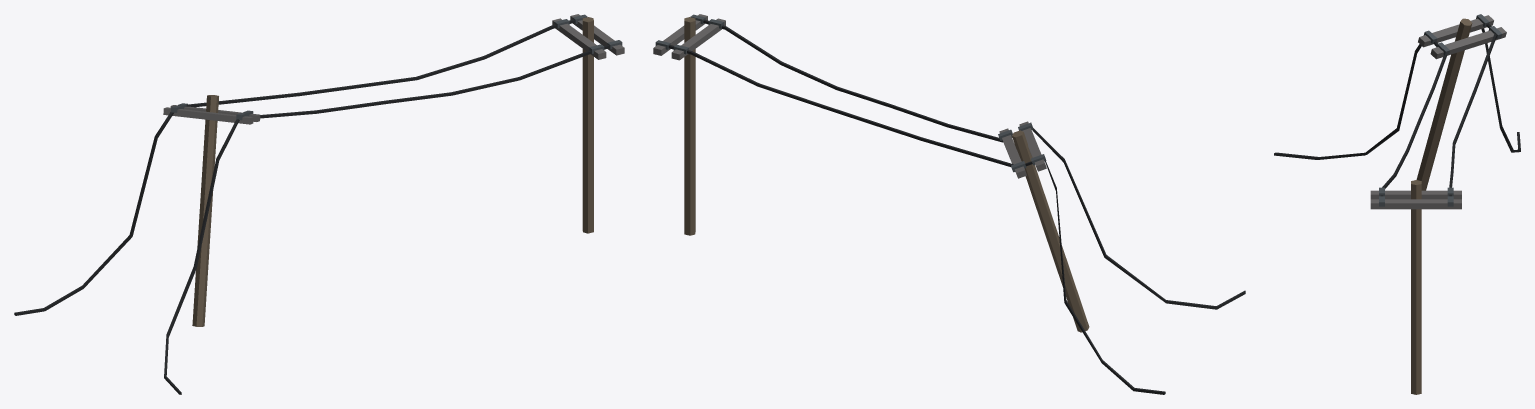
File: SM_Prop_Powerlines_03.fbx
3 renders of one model, left to right at view 1: azimuth 30°, elevation 25°; view 2: azimuth 150°, elevation 25°; view 3: azimuth 270°, elevation 25°, orthographic.
Parts seen in each view (by area): view 1: SM_Prop_Powerlines_03; view 2: SM_Prop_Powerlines_03; view 3: SM_Prop_Powerlines_03.
Boxes of the visible parts, left/top/right/bottom form: SM_Prop_Powerlines_03: left=14, top=14, right=624, bottom=394; SM_Prop_Powerlines_03: left=653, top=14, right=1245, bottom=394; SM_Prop_Powerlines_03: left=1274, top=14, right=1520, bottom=394.
Bounding box in the file's own units: 130 × 49.41 × 52.29.
